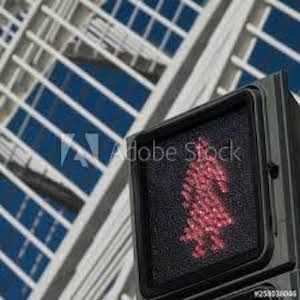red: (171, 134, 253, 255)
